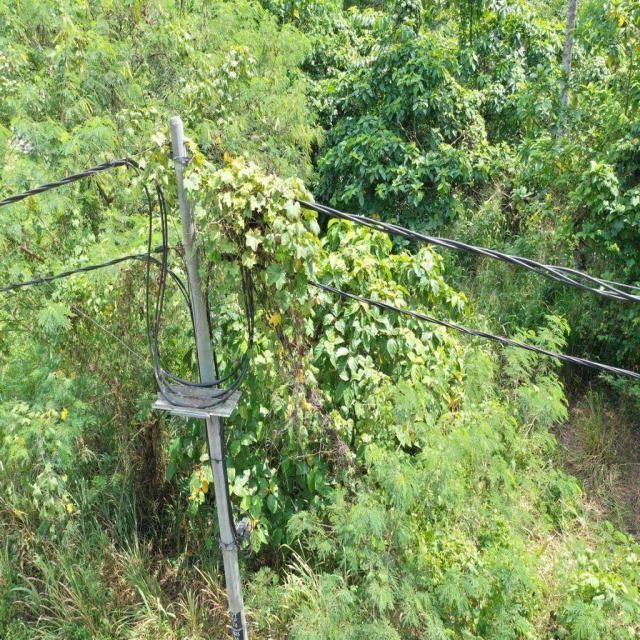critical vegetation: (122, 135, 324, 400)
